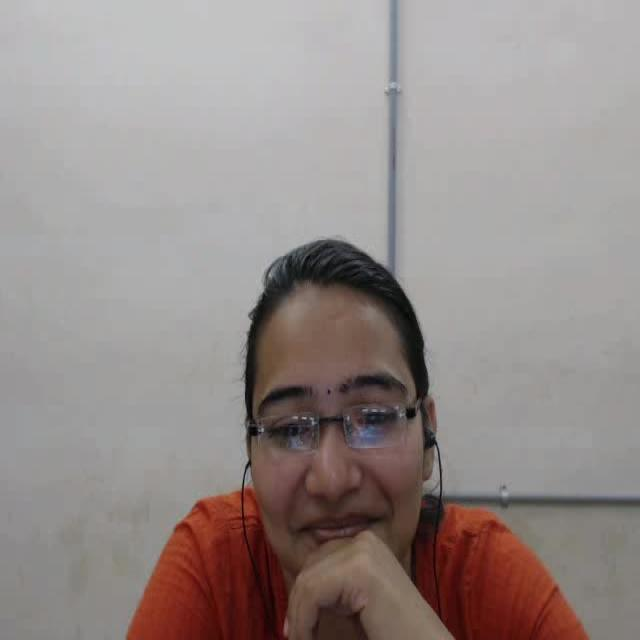Bored: (177, 231, 520, 640)
